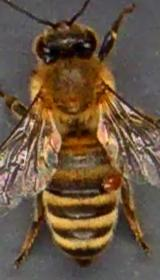varroa_mite: (90, 162, 126, 198)
